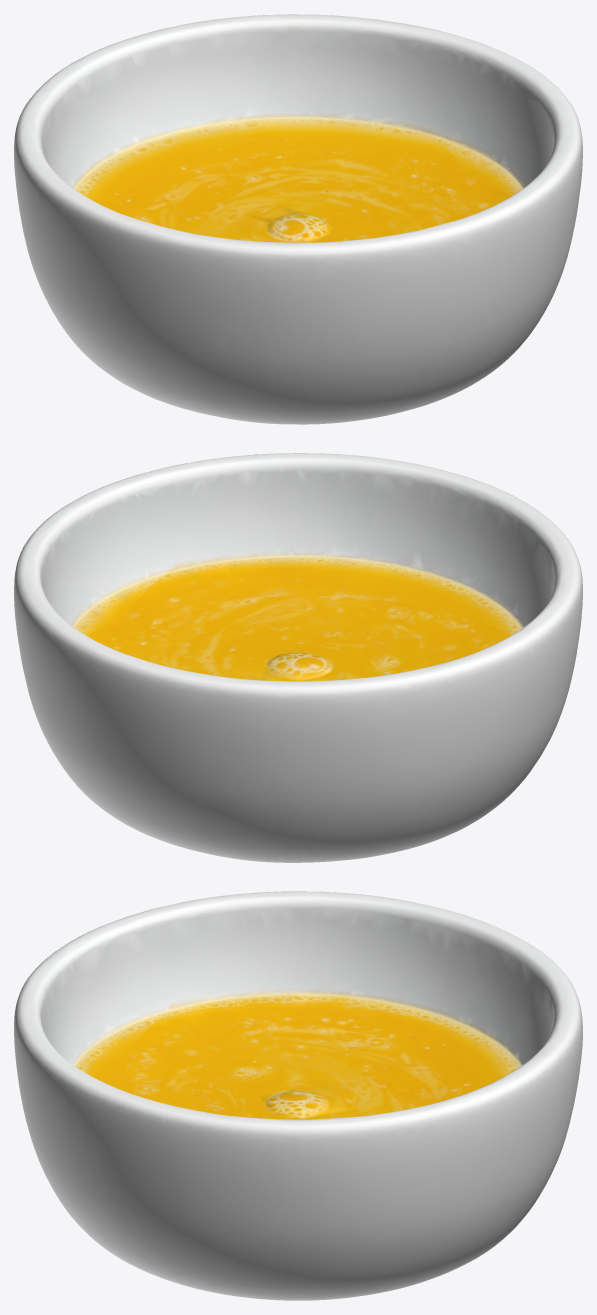
The model's file is cold-eggwash.glb.
3 renders of one model, top to bottom at view 1: azimuth 30°, elevation 25°; view 2: azimuth 150°, elevation 25°; view 3: azimuth 270°, elevation 25°, orthographic.
Visible parts, largest first — view 1: mesh; view 2: mesh; view 3: mesh.
Part boxes in pixels (x1,y1,x2,y2): mesh: [14, 14, 582, 424]; mesh: [14, 453, 582, 862]; mesh: [14, 891, 582, 1300].
Bounding box in the file's own units: 2 × 0.8853 × 2.
Materials: 1 (1 with a texture image).
